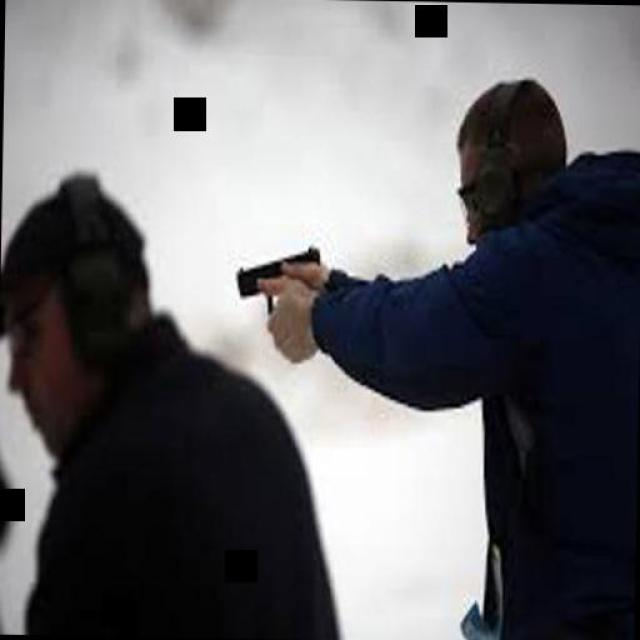gun: (232, 242, 328, 326)
